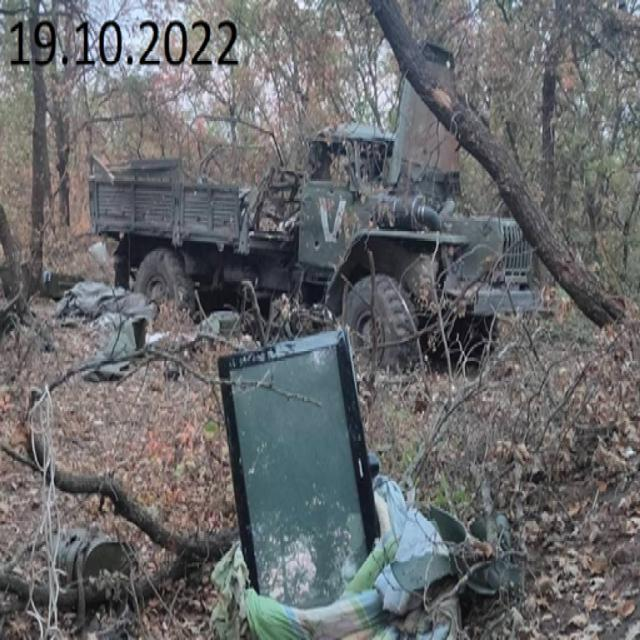TRUCK: (86, 38, 542, 369)
